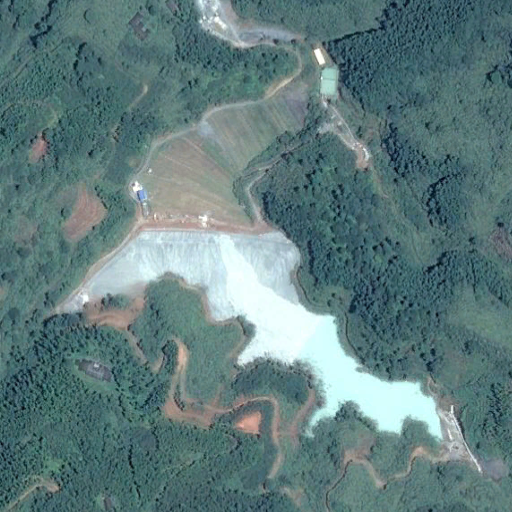tp: (54, 80, 441, 441)
